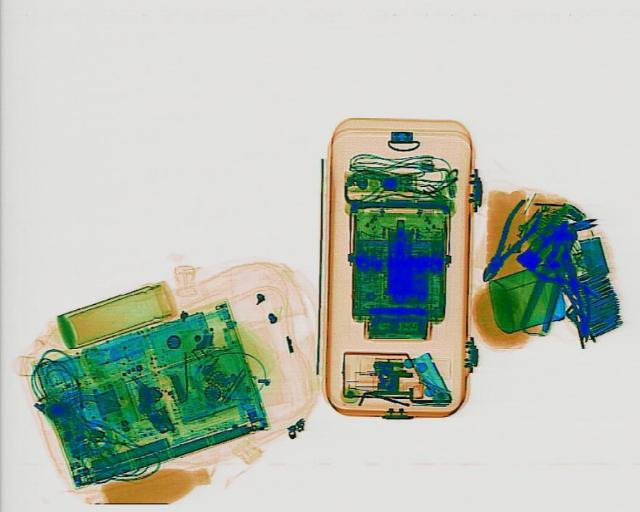Pliers: (468, 194, 550, 284)
